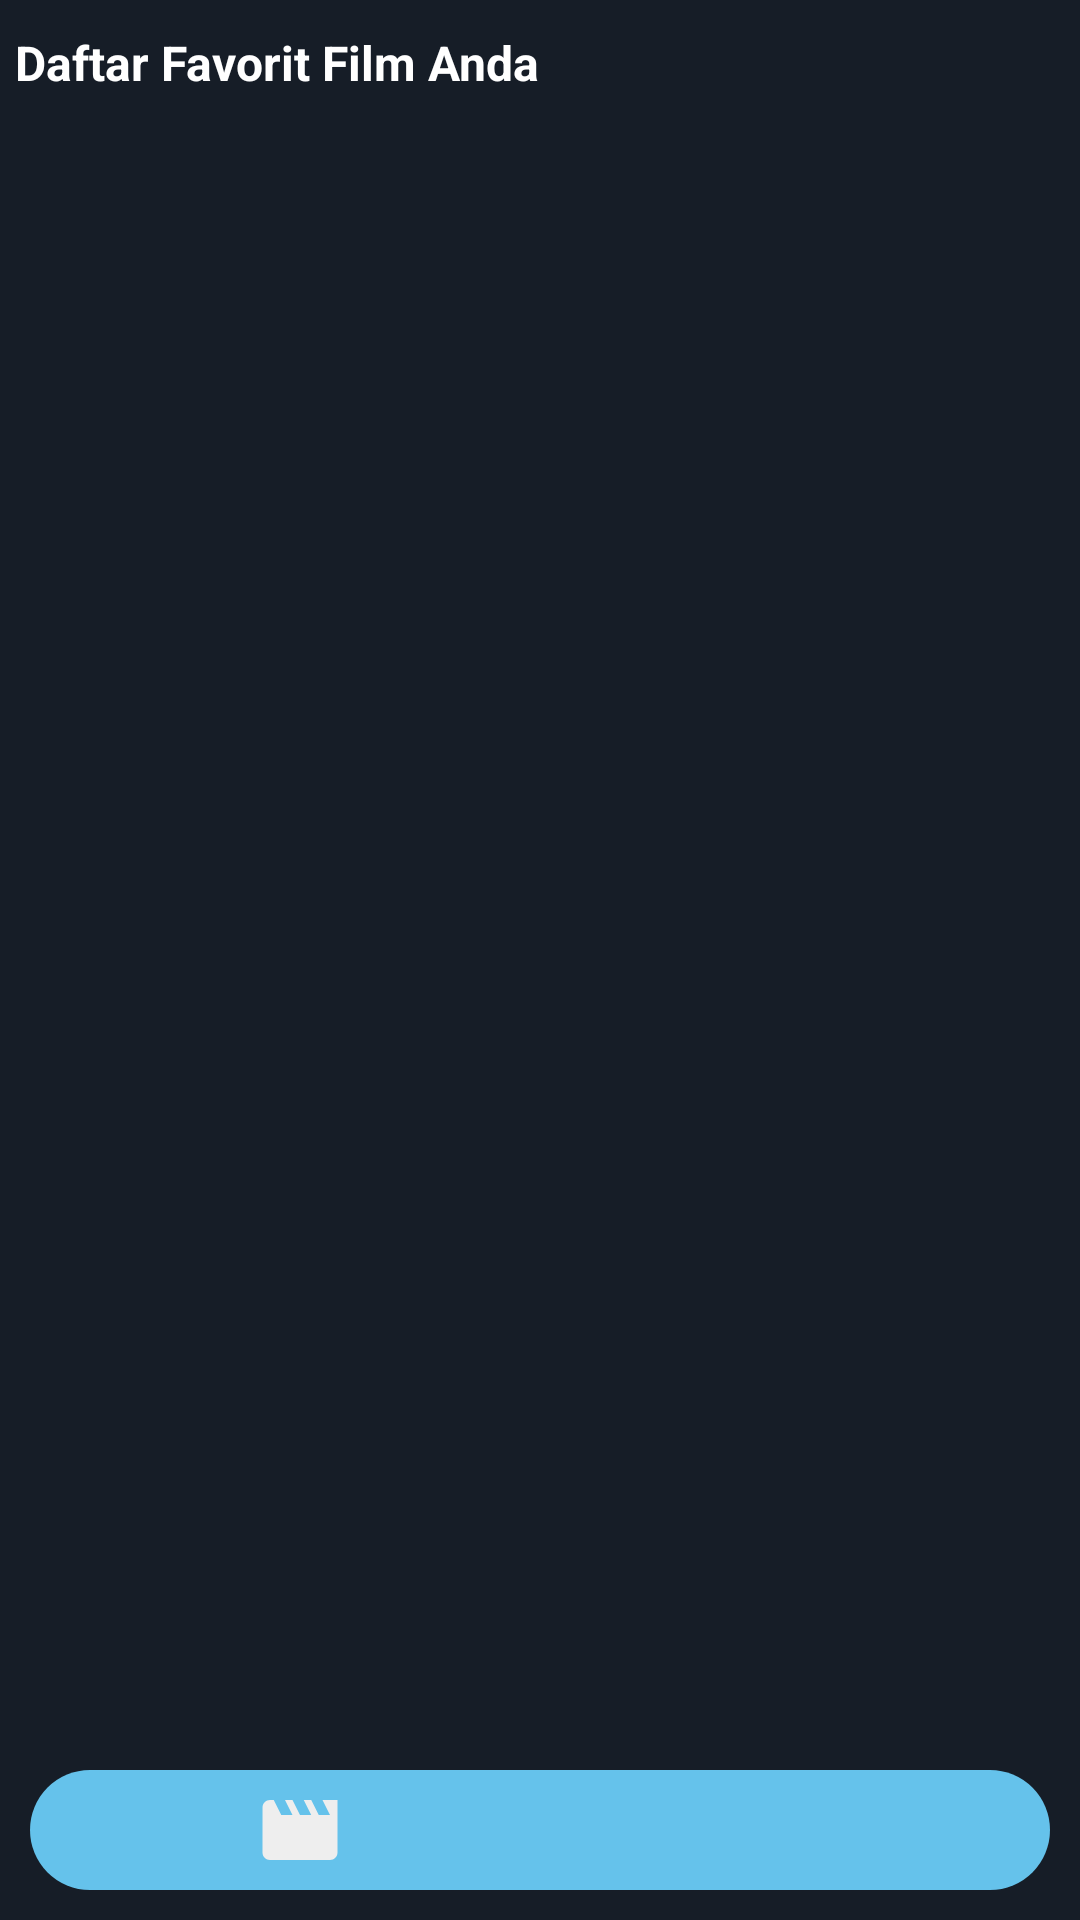

Where icons sit on this 1080px×1920px app screen, as box(x1, y1, x2, y2):
movie: box(262, 1800, 338, 1860)
